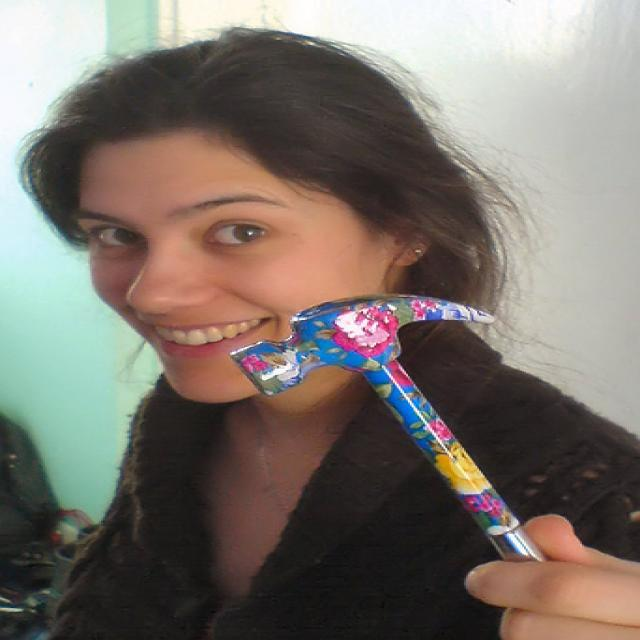hammer: (228, 280, 574, 600)
